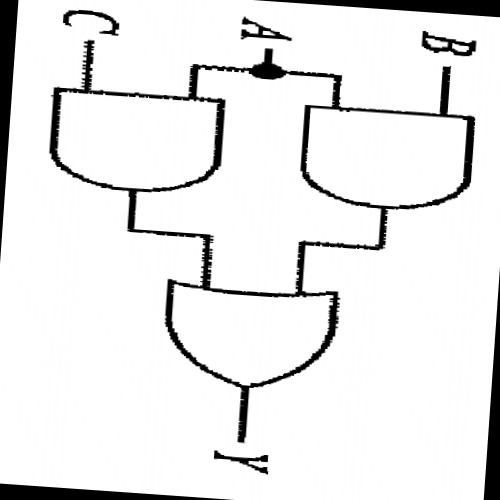and: (287, 96, 487, 220), (34, 80, 236, 202)
or: (151, 271, 348, 399)
